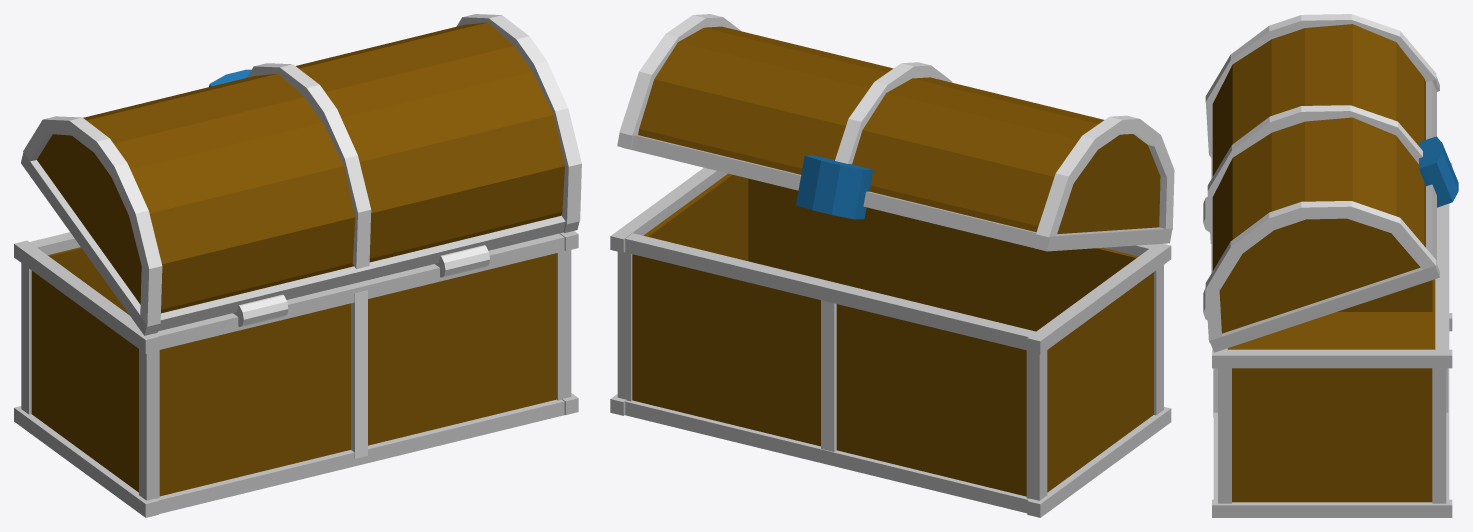
File: Cofre.fbx
The picture shows the model from 3 angles, left to right: view 1: azimuth 30°, elevation 25°; view 2: azimuth 150°, elevation 25°; view 3: azimuth 270°, elevation 25°; orthographic projection. The views are drawn at different scales.
Parts seen in each view (by area): view 1: Cube.001, Cube, Cube.004, Cube.008, Cube.006, Cube.003, Cylinder, Cylinder.001; view 2: Cube, Cube.001, Cube.004, Cube.008, Cube.006, Cube.005, Cube.003; view 3: Cube.001, Cube, Cube.004, Cube.008, Cube.006, Cube.005, Cube.003.
Part boxes in pixels (<box>): Cube.001: <box>37,22,564,313</box>; Cube: <box>31,247,556,496</box>; Cube.004: <box>14,231,578,517</box>; Cube.008: <box>23,14,581,326</box>; Cube.006: <box>21,152,579,335</box>; Cube.003: <box>351,290,367,458</box>; Cylinder: <box>233,294,288,327</box>; Cylinder.001: <box>435,245,489,277</box>; Cube: <box>632,173,1153,496</box>; Cube.001: <box>638,26,1160,233</box>; Cube.004: <box>610,167,1171,517</box>; Cube.008: <box>619,14,1174,237</box>; Cube.006: <box>617,132,1172,251</box>; Cube.005: <box>796,155,873,219</box>; Cube.003: <box>821,300,836,451</box>; Cube.001: <box>1212,24,1425,333</box>; Cube: <box>1227,279,1435,502</box>; Cube.004: <box>1212,163,1452,517</box>; Cube.008: <box>1205,14,1436,342</box>; Cube.006: <box>1209,76,1439,352</box>; Cube.005: <box>1419,136,1458,207</box>; Cube.003: <box>1213,368,1448,417</box>.
Bounding box in the file's own units: 454 × 346 × 254.
